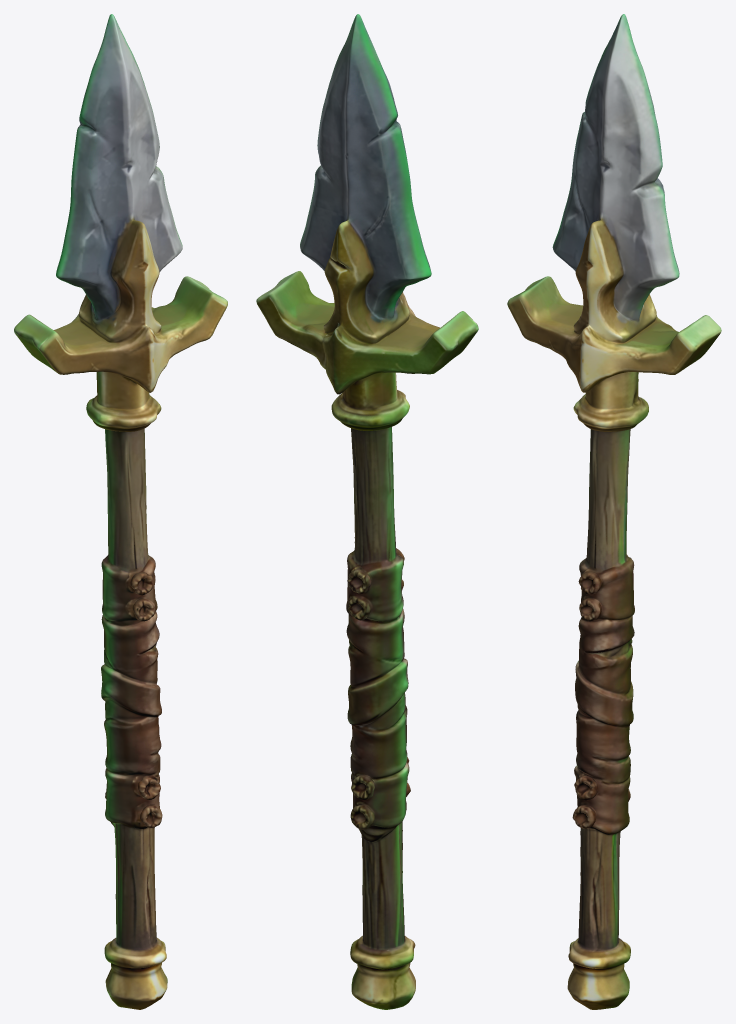
File: Spear_Tripo.glb
3 renders of one model, left to right at view 1: azimuth 30°, elevation 25°; view 2: azimuth 150°, elevation 25°; view 3: azimuth 330°, elevation 25°, orthographic. The views are drawn at different scales.
Visible parts, largest first — view 1: tripo_node_2e53404a-18f7-488b-881f-8c1beb7dfbe7; view 2: tripo_node_2e53404a-18f7-488b-881f-8c1beb7dfbe7; view 3: tripo_node_2e53404a-18f7-488b-881f-8c1beb7dfbe7.
Boxes of the visible parts, left/top/right/bottom form: tripo_node_2e53404a-18f7-488b-881f-8c1beb7dfbe7: left=14, top=14, right=227, bottom=1009; tripo_node_2e53404a-18f7-488b-881f-8c1beb7dfbe7: left=256, top=14, right=478, bottom=1009; tripo_node_2e53404a-18f7-488b-881f-8c1beb7dfbe7: left=507, top=14, right=721, bottom=1009.
Size of the model in its own units: 0.1995 by 0.9815 by 0.1172.
Materials: 1 (1 with a texture image).
